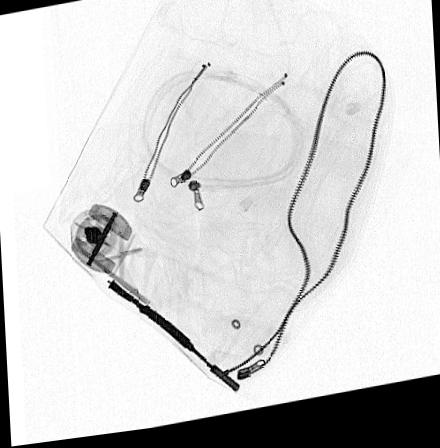Gun: (105, 282, 242, 402)
